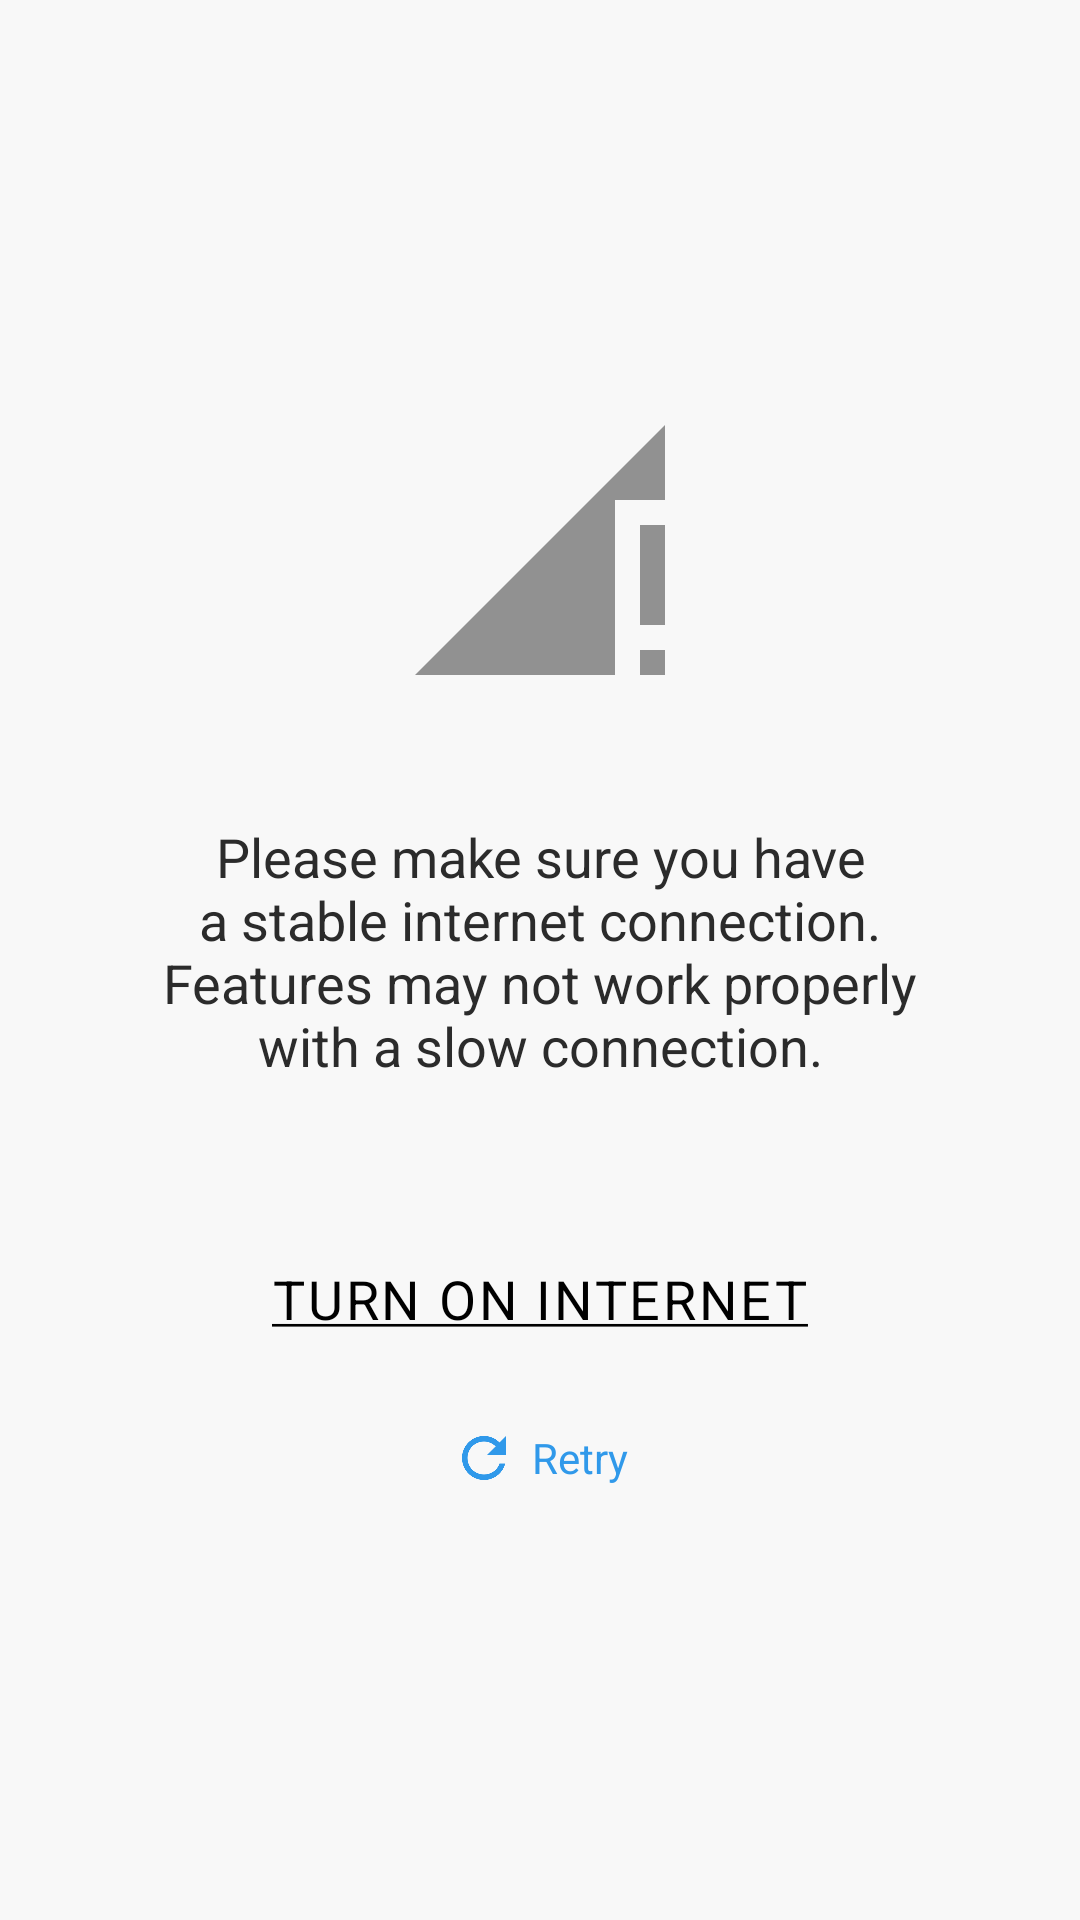

Icon bounding boxes for this 1080px x 1920px phone screenshot, format {"x1": x1, "y1": y1, "x2": x2, "y2": y2}:
refresh: {"x1": 462, "y1": 1436, "x2": 506, "y2": 1480}
